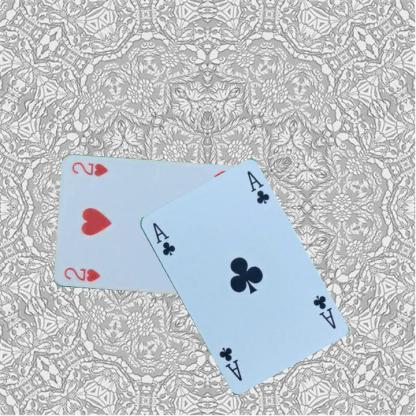2h: (61, 265, 101, 283)
Ac: (310, 292, 337, 330), (150, 220, 176, 257)
